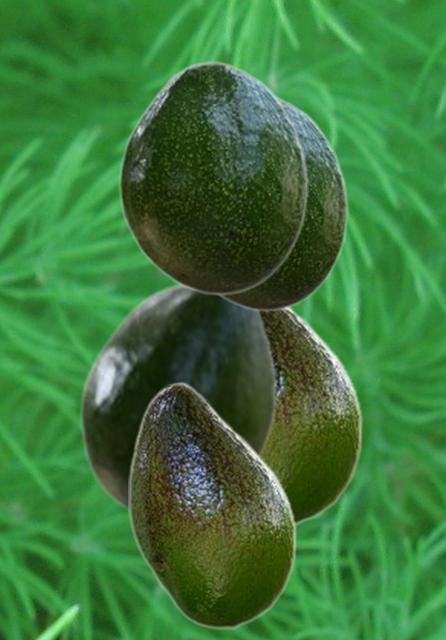avocado: (78, 281, 276, 514), (118, 61, 307, 295), (128, 381, 296, 628), (218, 93, 347, 311), (262, 307, 362, 525)
